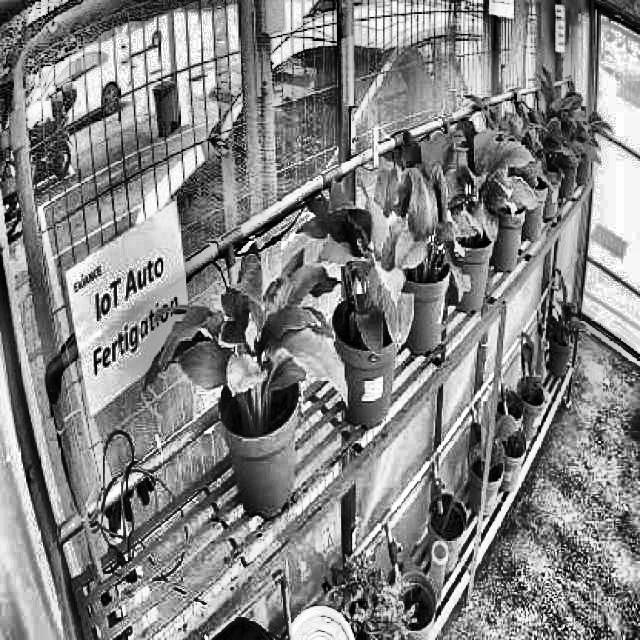plants: (144, 240, 352, 434), (299, 178, 413, 368), (363, 126, 471, 308), (426, 111, 542, 251)
